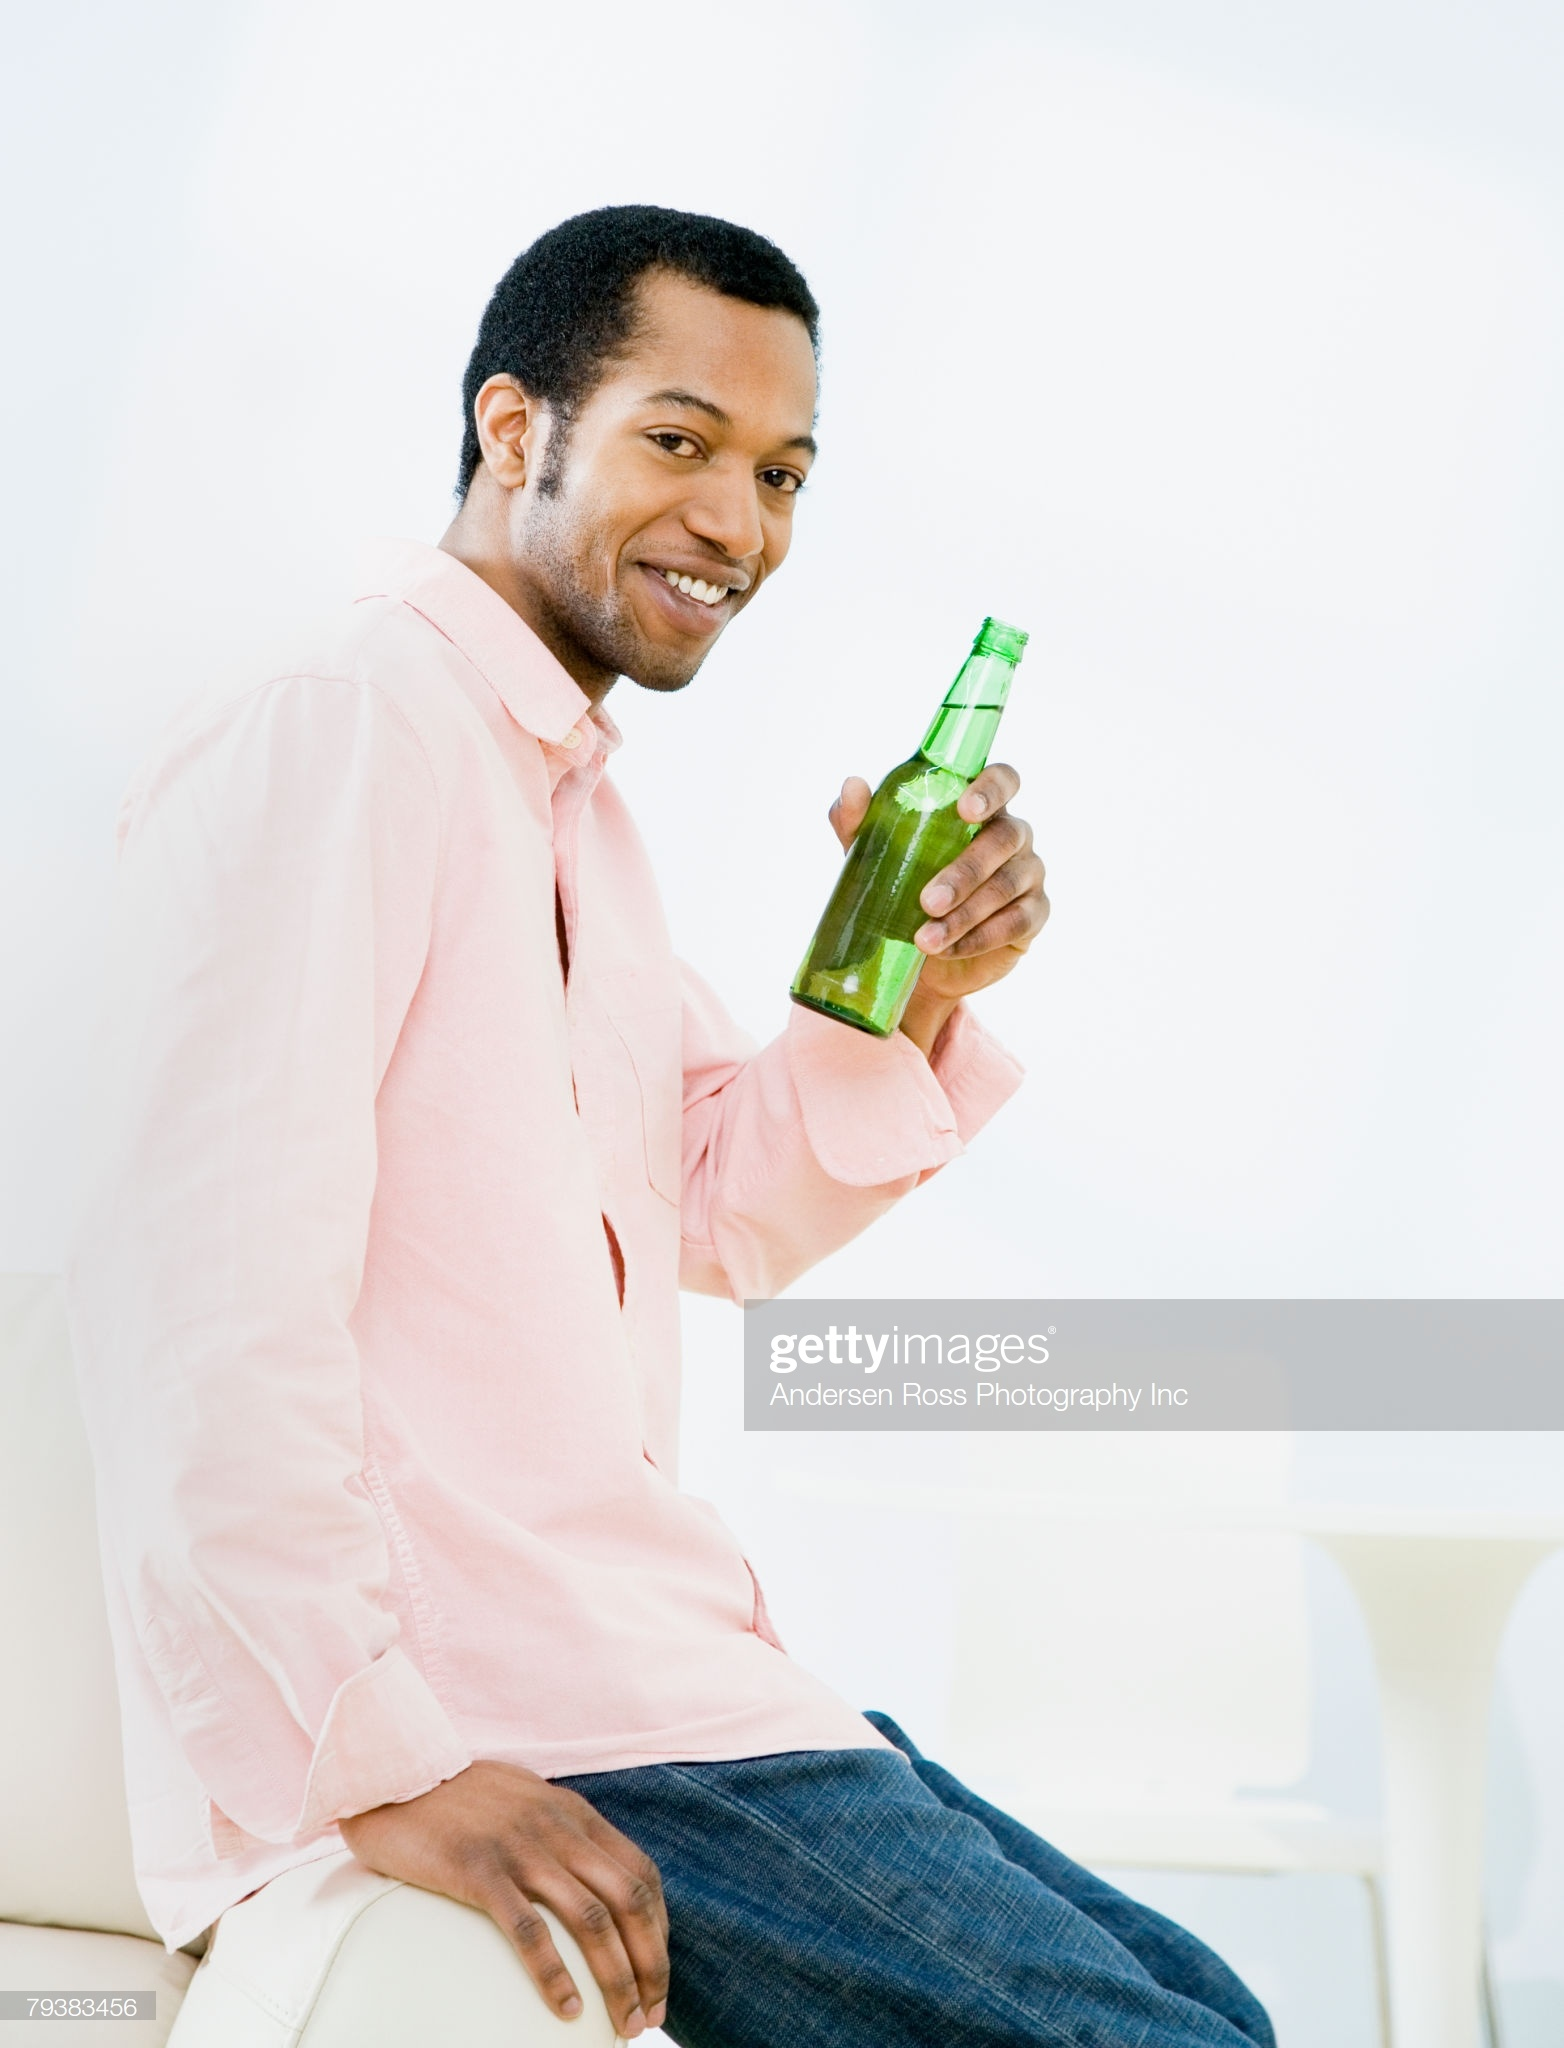beerBottle: (798, 608, 1037, 1041)
